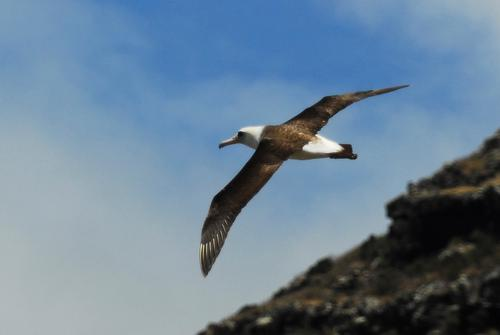002.Laysan_Albatross: (199, 84, 411, 279)
